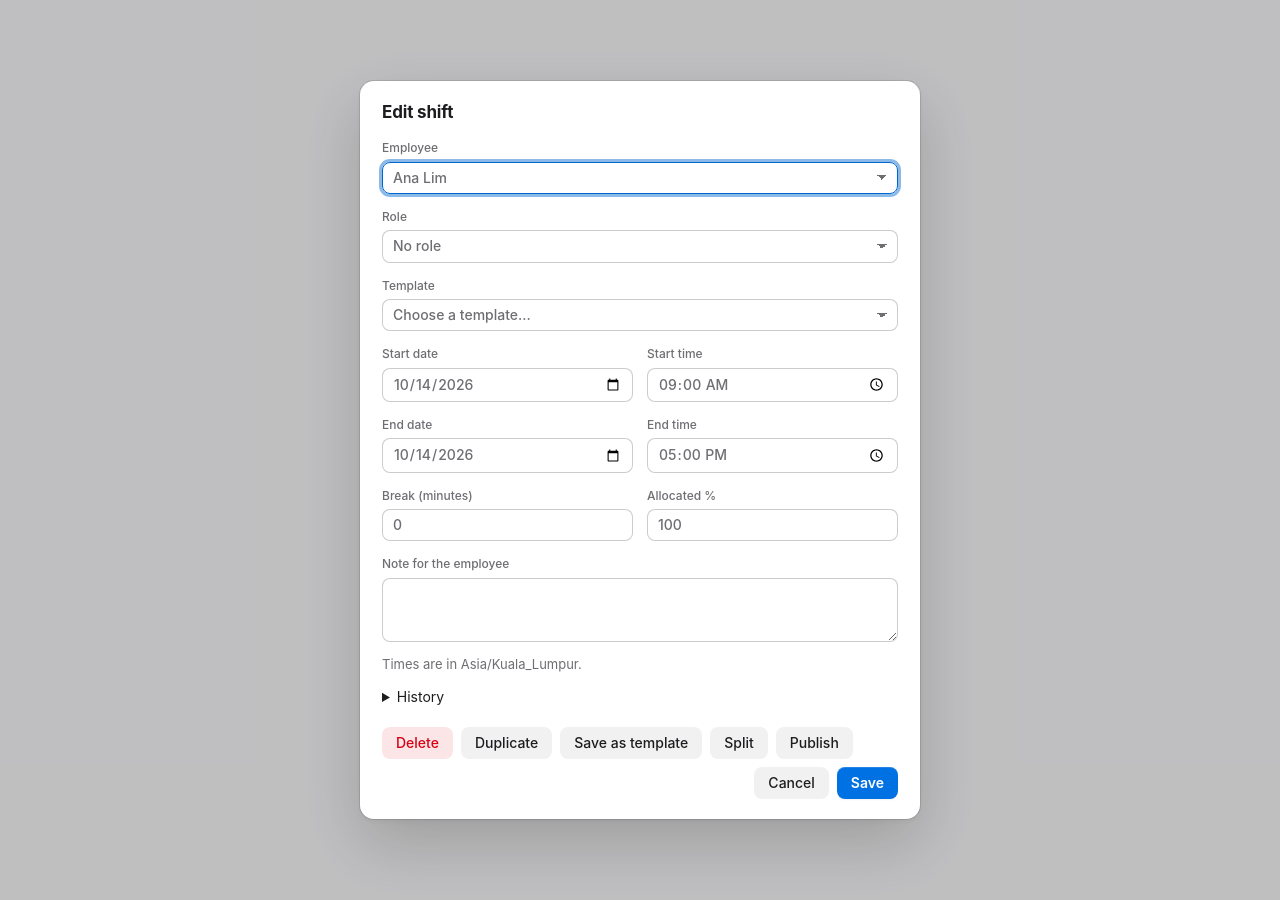
ShiftDialog › applies a chosen template to the start time, end time and break
Select "Night shift" in the dropdown labelled "Template" at (640, 315), box [382,299,898,331]
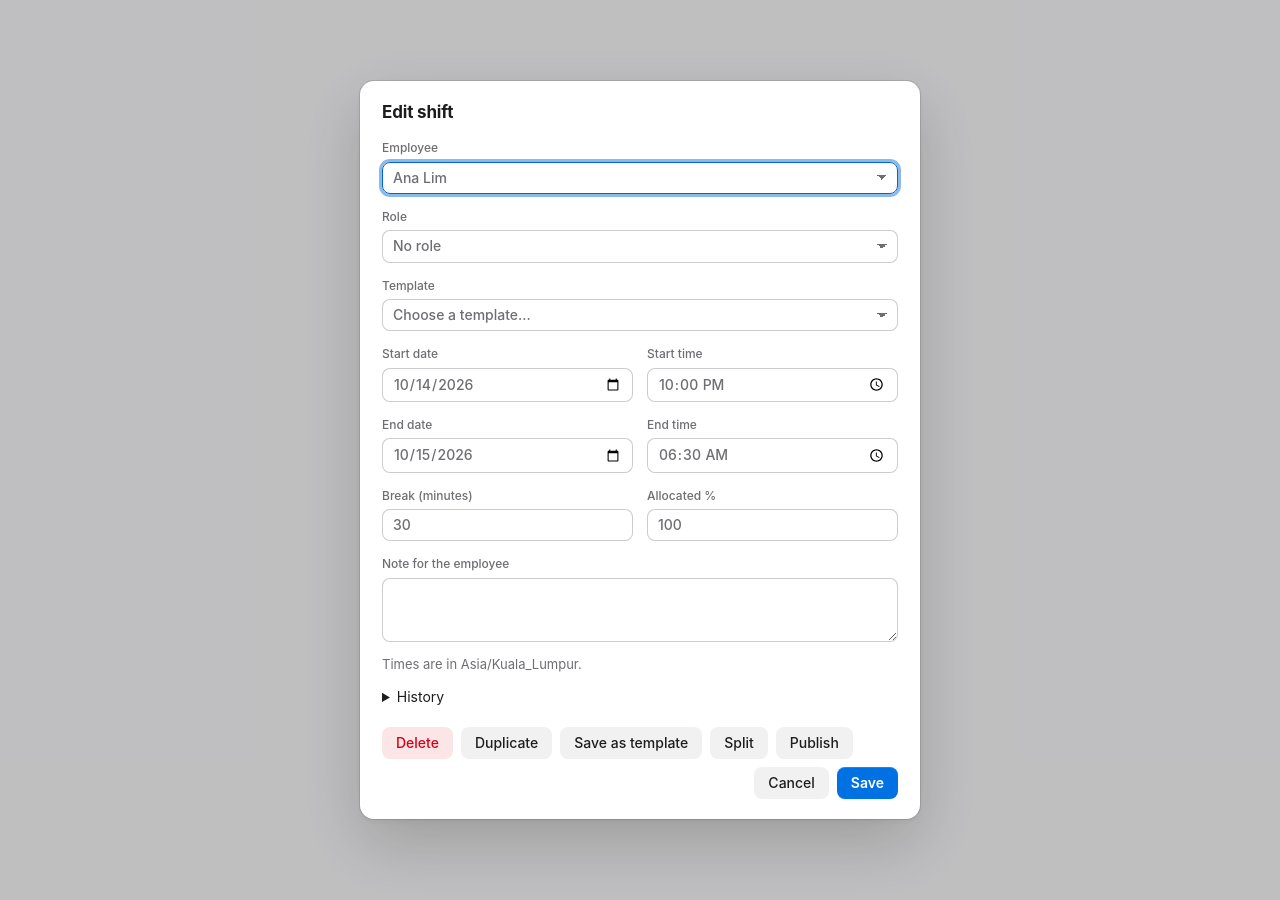
Check: the time field labelled "Start time" holds "22:00", box [647,368,898,402]
Check: the number field labelled "Break (minutes)" holds "30", box [382,509,633,541]
Check: the time field labelled "End time" holds "06:30", box [647,438,898,473]
